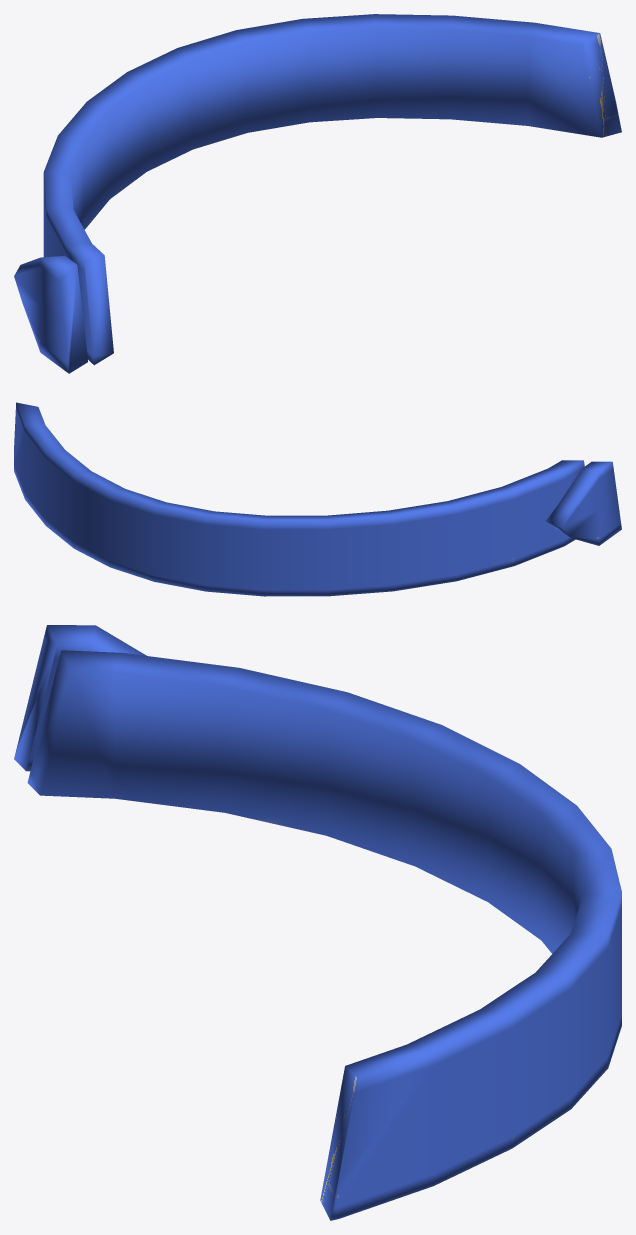
Rendered from catcollar1.fbx.
The picture shows the model from 3 angles, top to bottom: view 1: azimuth 30°, elevation 25°; view 2: azimuth 150°, elevation 25°; view 3: azimuth 270°, elevation 25°; orthographic projection. The views are drawn at different scales.
Visible parts, largest first — view 1: Circle.001; view 2: Circle.001; view 3: Circle.001.
Part boxes in pixels (<box>): Circle.001: <box>14,14,621,373</box>; Circle.001: <box>14,402,621,596</box>; Circle.001: <box>14,625,621,1220</box>.
Bounding box in the file's own units: 173 × 24.36 × 97.19.
